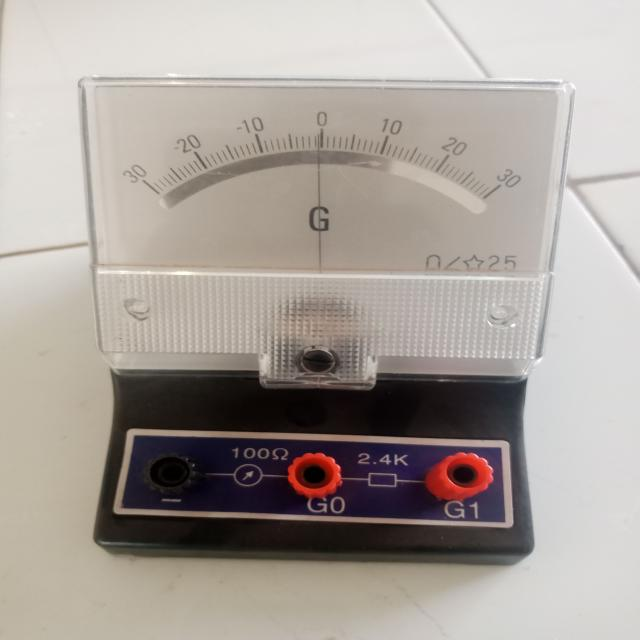Galvanometer: (59, 69, 592, 562)
